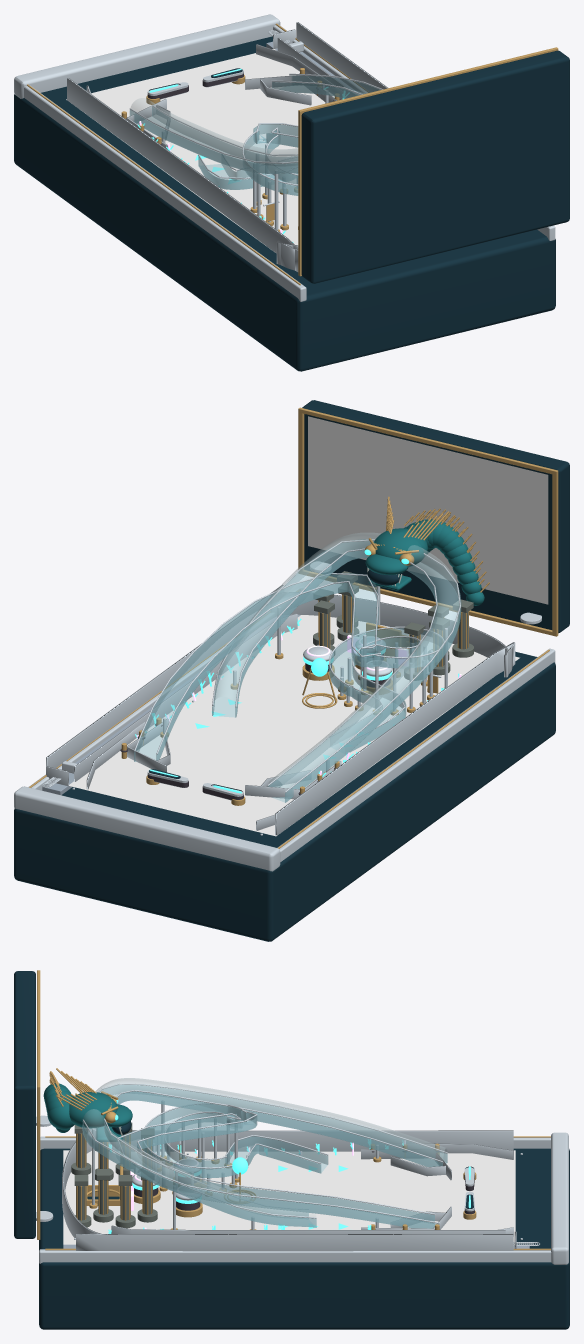
The model's file is leviathan.glb.
3 views of the same model, one above another, from view 1: azimuth 30°, elevation 25°; view 2: azimuth 150°, elevation 25°; view 3: azimuth 270°, elevation 25° (orthographic). The views are drawn at different scales.
Parts seen in each view (by area): view 1: static-Obsidian, static-Chrome, static-Playfield, static-Glass, static-Gold, static-TubeGlass; view 2: static-Obsidian, static-Chrome, static-Playfield, static-Backglass, static-Glass, static-TubeGlass, static-Gold, static-Creature, static-Stone, static-Accent, static-Ramp; view 3: static-Obsidian, static-Chrome, static-Playfield, static-Glass, static-TubeGlass, static-Gold, static-Stone, static-Creature, static-Accent.
Boxes of the visible parts, bbox=[...] form: static-Obsidian: bbox=[14, 36, 569, 371]; static-Chrome: bbox=[14, 14, 555, 301]; static-Playfield: bbox=[66, 49, 334, 249]; static-Glass: bbox=[129, 75, 379, 195]; static-Gold: bbox=[27, 23, 558, 285]; static-TubeGlass: bbox=[131, 98, 298, 163]; static-Obsidian: bbox=[14, 400, 569, 941]; static-Chrome: bbox=[14, 539, 555, 871]; static-Playfield: bbox=[69, 615, 519, 836]; static-Backglass: bbox=[308, 416, 548, 604]; static-Glass: bbox=[134, 539, 461, 802]; static-TubeGlass: bbox=[214, 532, 460, 790]; static-Gold: bbox=[29, 407, 558, 848]; static-Creature: bbox=[365, 519, 484, 605]; static-Stone: bbox=[313, 571, 473, 680]; static-Accent: bbox=[135, 549, 459, 776]; static-Ramp: bbox=[42, 614, 300, 795]; static-Obsidian: bbox=[14, 971, 569, 1329]; static-Chrome: bbox=[36, 1083, 568, 1264]; static-Playfield: bbox=[63, 1150, 515, 1244]; static-Glass: bbox=[82, 1085, 447, 1228]; static-TubeGlass: bbox=[83, 1078, 446, 1217]; static-Gold: bbox=[37, 970, 550, 1250]; static-Stone: bbox=[71, 1122, 157, 1228]; static-Creature: bbox=[43, 1083, 132, 1132]; static-Accent: bbox=[108, 1100, 403, 1233].
Bounding box in the file's own units: 0.69 × 0.67 × 1.38.
